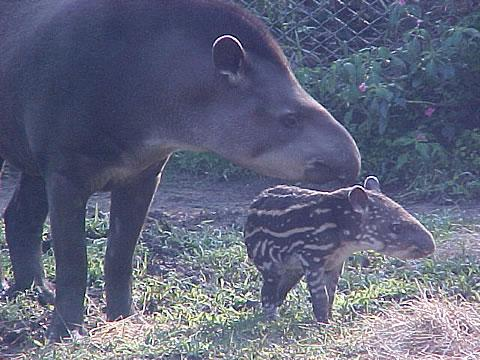Anta: (5, 3, 366, 334), (242, 176, 443, 327)
